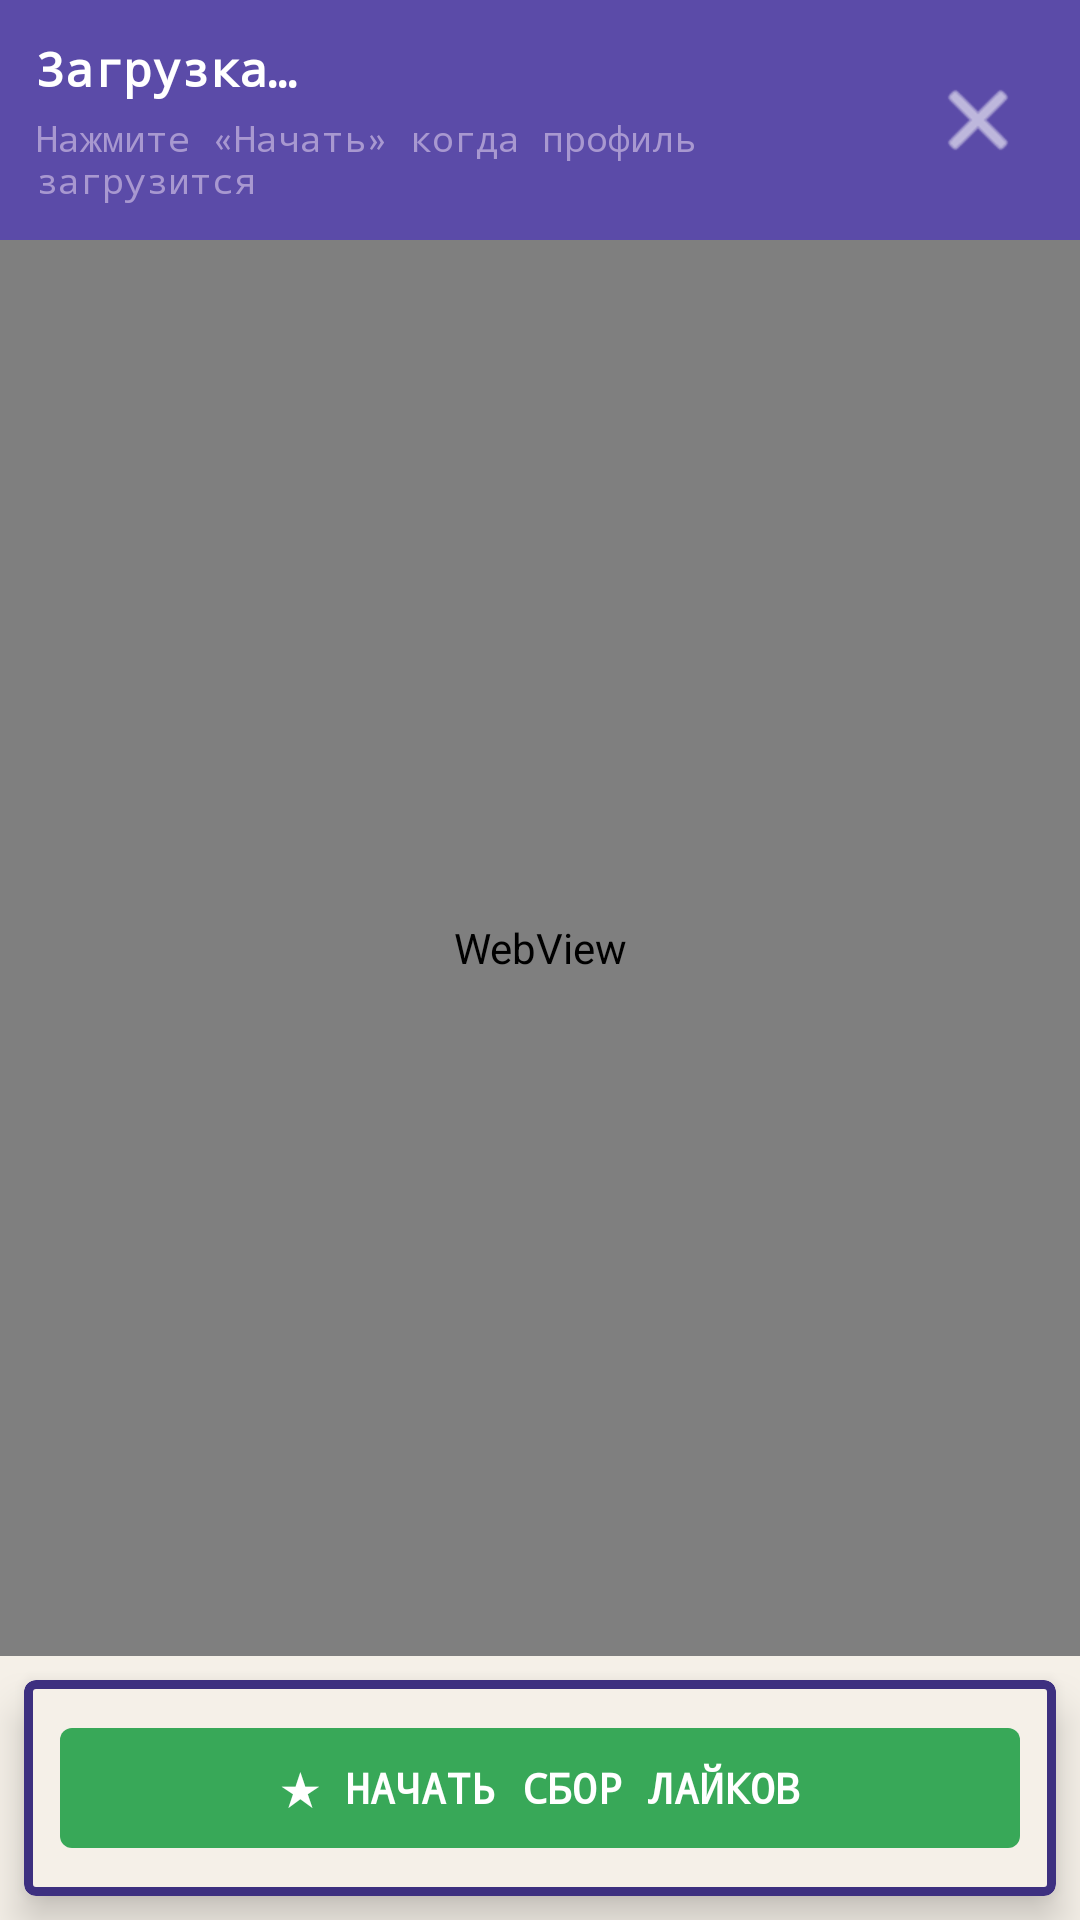

Where to tap for icons on this 1080×1920 app screen, as point (x, y):
ОТМЕНА: point (978, 120)
